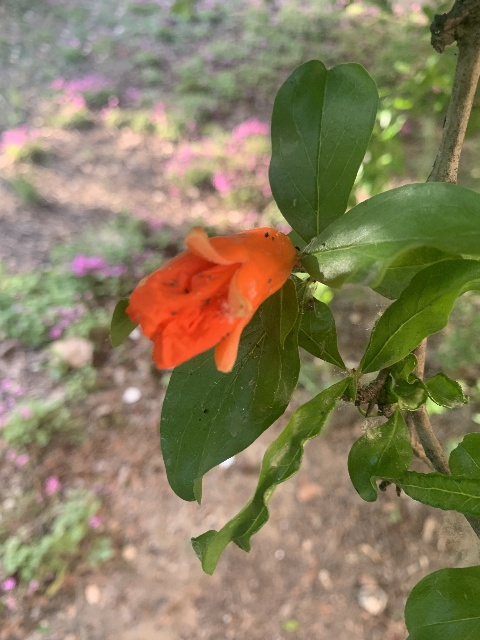flower: (127, 225, 295, 372)
